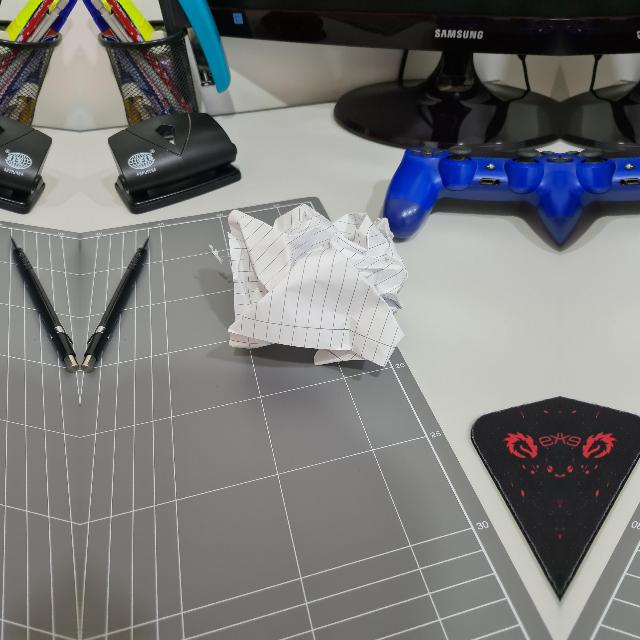paper: (212, 198, 406, 372)
